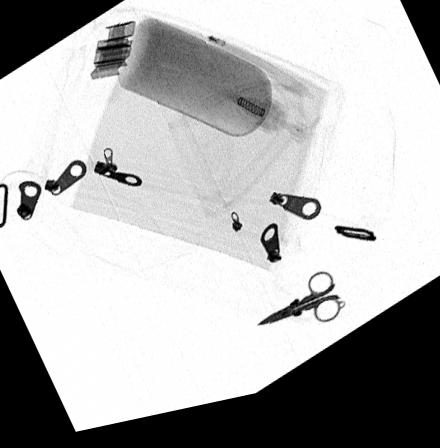Scissors: (256, 284, 347, 336)
